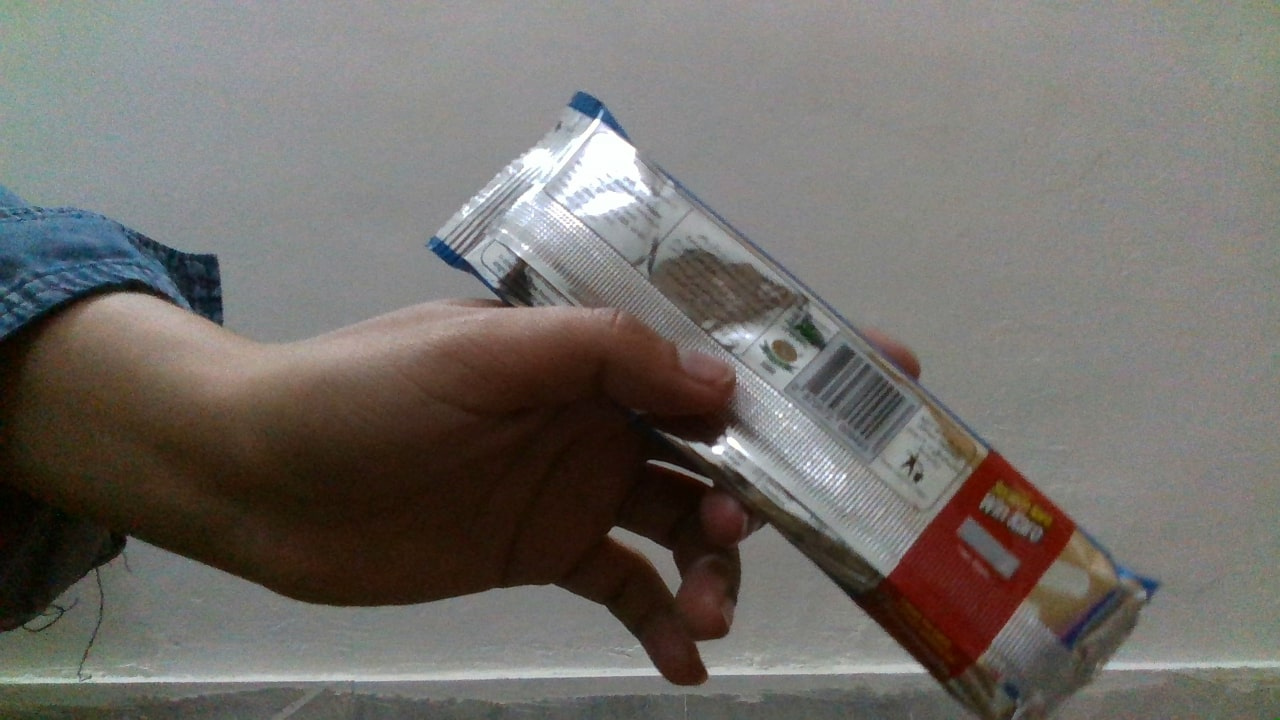Barcode: (803, 343, 915, 451)
